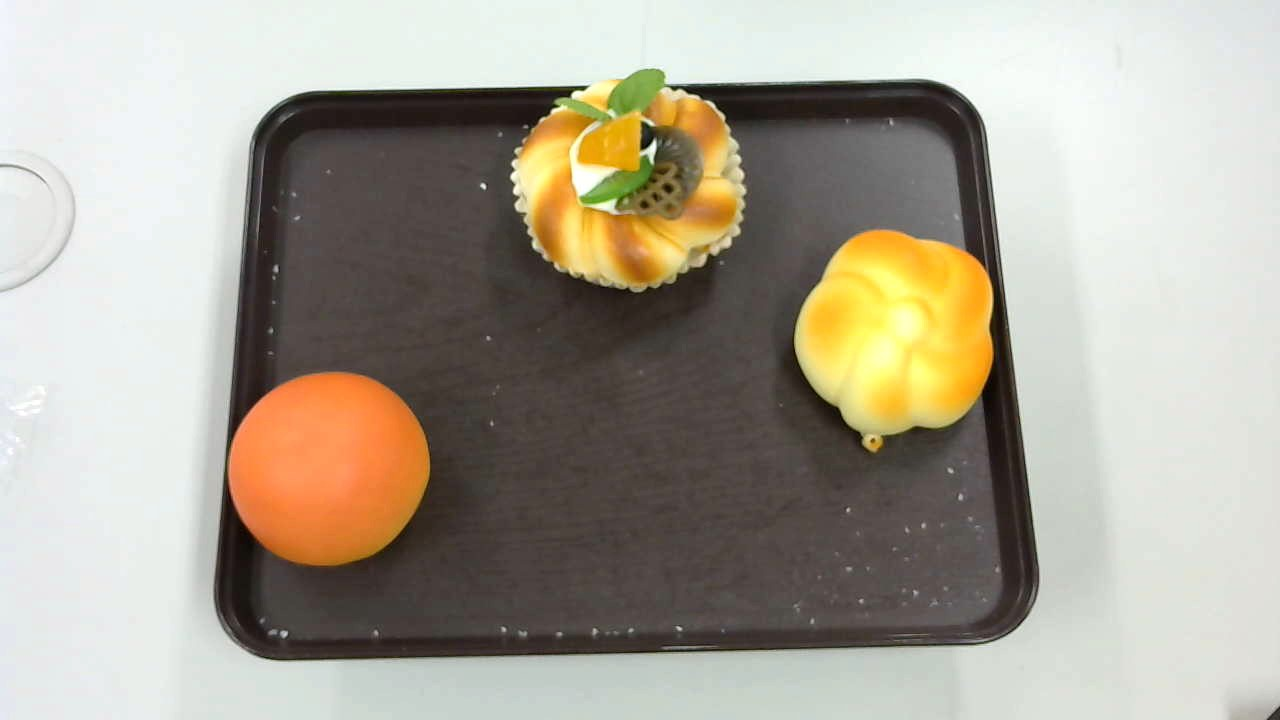bun: (227, 373, 429, 567)
croissant: (794, 227, 994, 452)
fruit tart: (512, 69, 745, 292)
